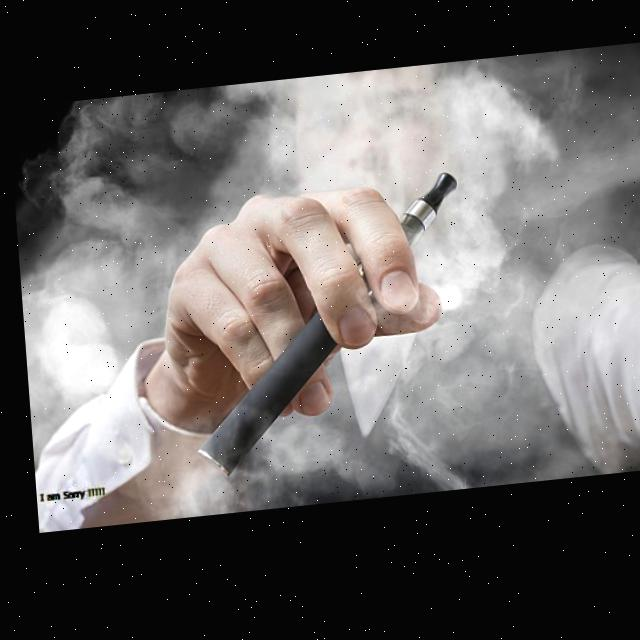vape: (175, 179, 471, 485)
